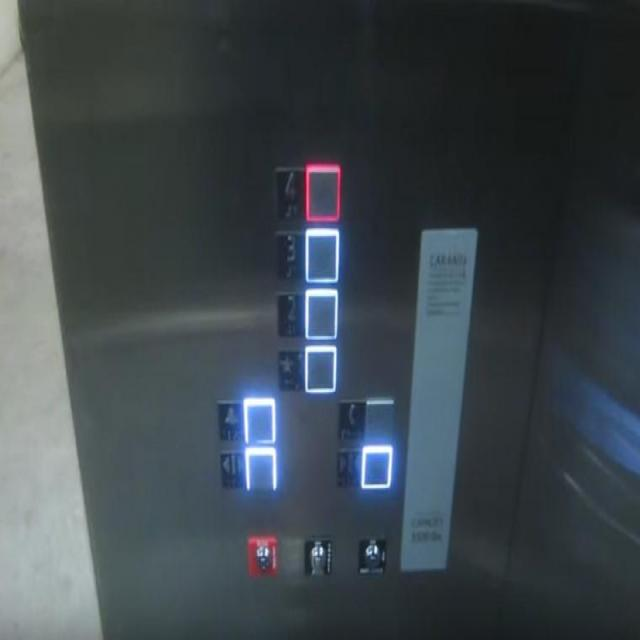2: (276, 288, 306, 340)
3: (273, 228, 304, 280)
4: (273, 164, 304, 223)
alarm: (215, 399, 244, 444)
bt_keyhole: (357, 531, 387, 580), (246, 533, 277, 580), (303, 535, 332, 581)
call: (336, 397, 365, 444)
close: (335, 446, 364, 494)
empty: (304, 162, 341, 222), (303, 226, 340, 286), (303, 284, 339, 340), (303, 343, 336, 393), (242, 395, 275, 445), (244, 445, 276, 496), (363, 397, 395, 448), (360, 440, 392, 491)
open: (218, 449, 244, 491)
s1: (276, 346, 306, 394)
